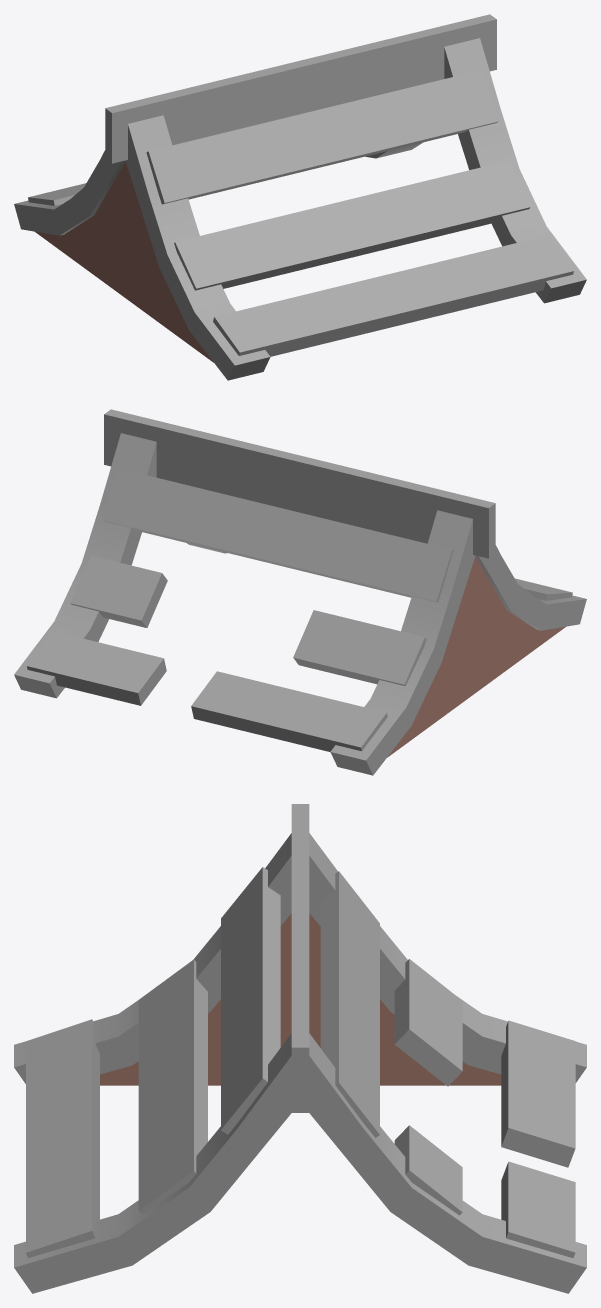
The model's file is TechoChico2.fbx.
The picture shows the model from 3 angles, top to bottom: view 1: azimuth 30°, elevation 25°; view 2: azimuth 150°, elevation 25°; view 3: azimuth 270°, elevation 25°; orthographic projection. The views are drawn at different scales.
Parts seen in each view (by area): view 1: polySurface1057, polySurface1068; view 2: polySurface1057, polySurface1068; view 3: polySurface1057, polySurface1068.
Part boxes in pixels (x1=…): polySurface1057: x1=14, y1=14, x2=586, y2=380; polySurface1068: x1=35, y1=162, x2=213, y2=362; polySurface1057: x1=14, y1=409, x2=586, y2=775; polySurface1068: x1=387, y1=557, x2=565, y2=757; polySurface1057: x1=14, y1=804, x2=586, y2=1293; polySurface1068: x1=100, y1=913, x2=501, y2=1085.
Size of the model in its own units: 2.66 by 1.31 by 2.65.
